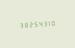eight: (22, 21, 26, 28)
five: (32, 20, 36, 28)
four: (37, 20, 41, 27)
one: (47, 19, 51, 27)
three: (17, 21, 21, 29), (42, 19, 46, 27)
two: (27, 20, 31, 28)
zero: (52, 18, 56, 26)
